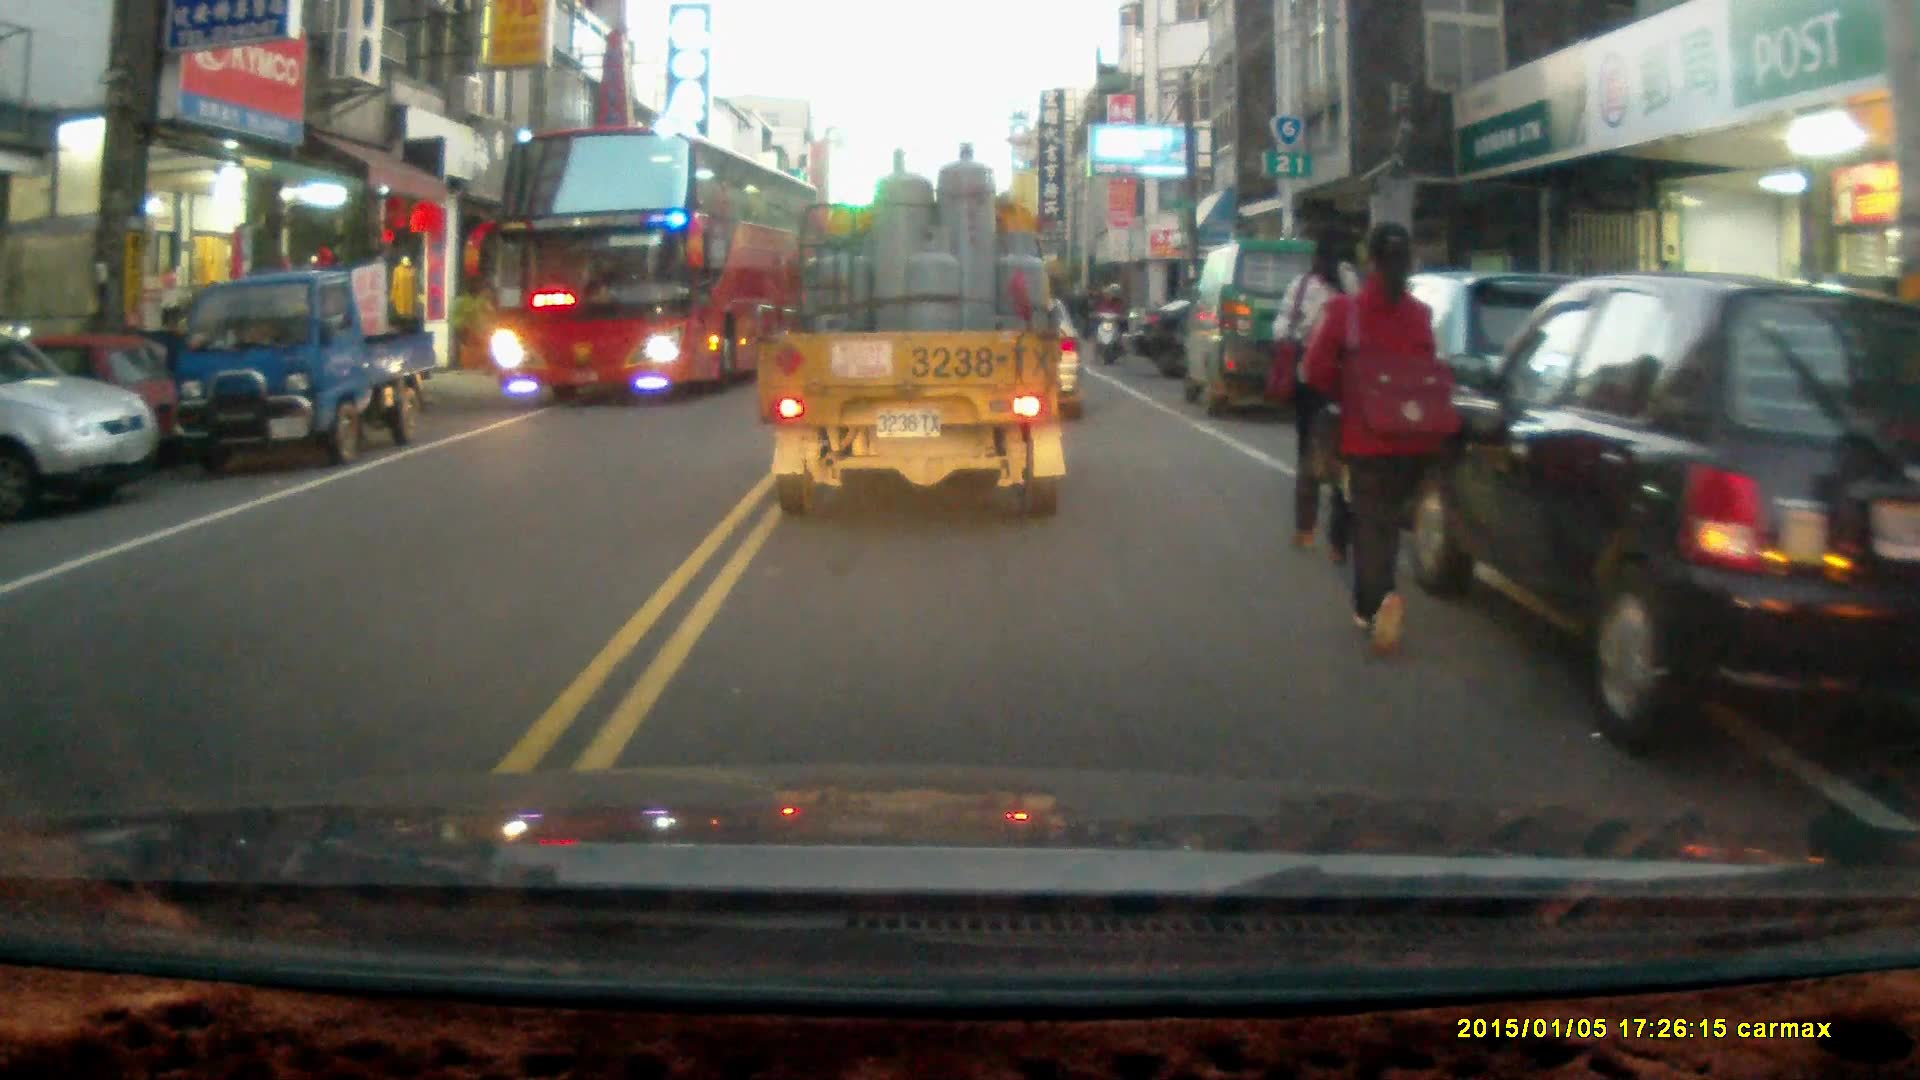pedestrian: (1305, 217, 1448, 653), (1271, 216, 1387, 570)
rider: (1091, 279, 1131, 367)
vehicle: (1416, 270, 1920, 762), (753, 142, 1075, 522), (488, 125, 820, 411), (163, 274, 441, 466), (1189, 237, 1370, 421), (1, 324, 158, 523)
